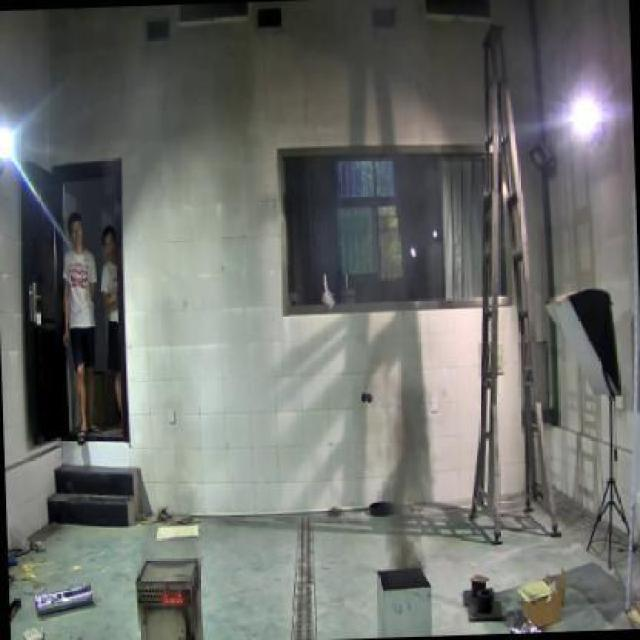fire: (373, 388, 430, 574)
